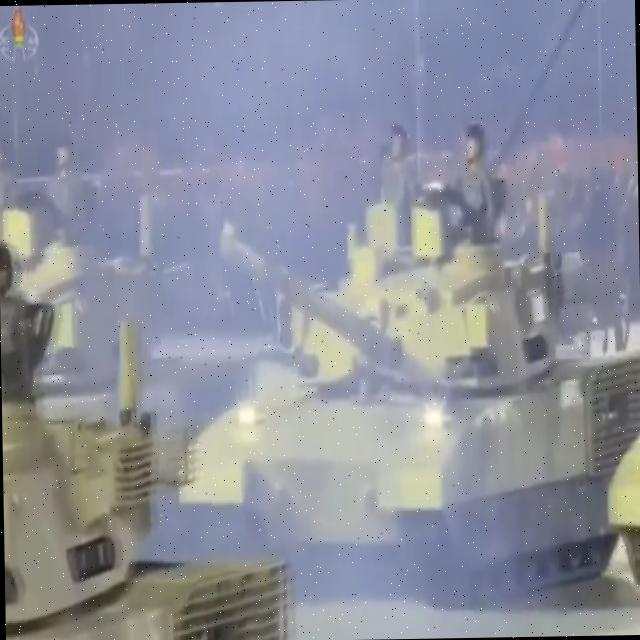north tank: (177, 172, 636, 600), (0, 322, 336, 640)
